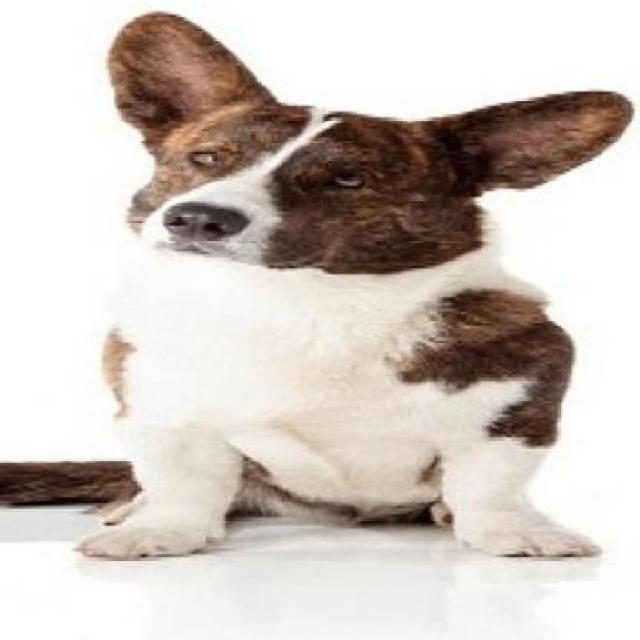Dog: (70, 11, 638, 562)
